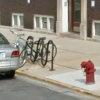Bicycle: (8, 26, 65, 72)
